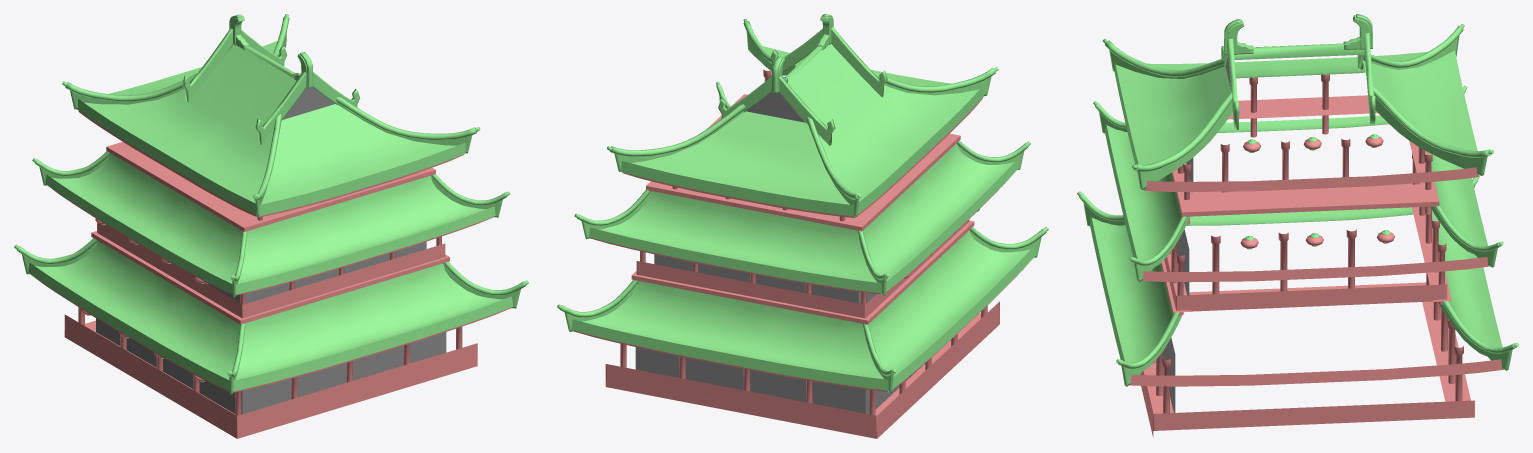
Rendered from CHN_OOB_Building01_CMB.gltf.
3 views of the same model, side by side, from view 1: azimuth 30°, elevation 25°; view 2: azimuth 150°, elevation 25°; view 3: azimuth 270°, elevation 25° (orthographic). The views are drawn at different scales.
Parts seen in each view (by area): view 1: CHN_OOB_Building01_CMB; view 2: CHN_OOB_Building01_CMB; view 3: CHN_OOB_Building01_CMB.
Boxes of the visible parts, bbox=[...] form: CHN_OOB_Building01_CMB: bbox=[14, 14, 528, 438]; CHN_OOB_Building01_CMB: bbox=[557, 14, 1048, 438]; CHN_OOB_Building01_CMB: bbox=[1077, 14, 1518, 437].
Bounding box in the file's own units: 52.11 × 45.17 × 52.18.
